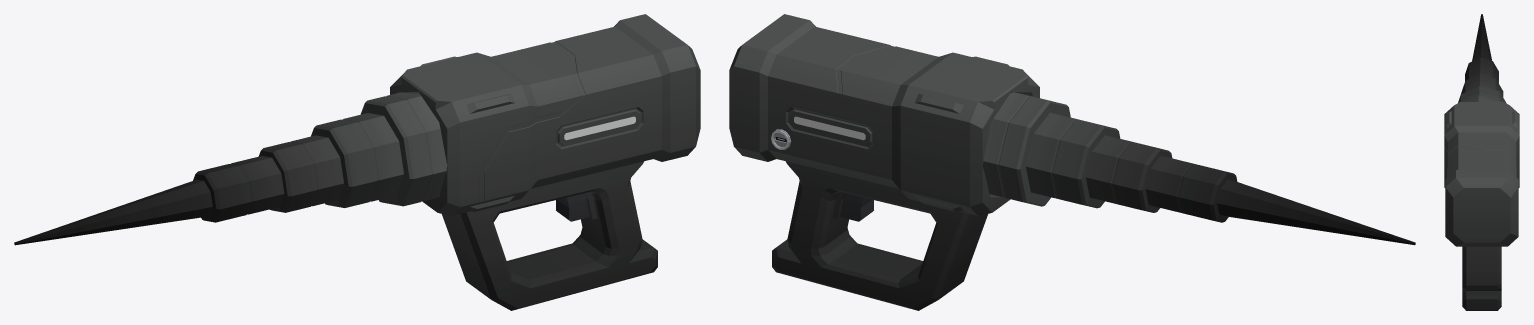
File: Item_Drill_FBX_Fixed.fbx
The picture shows the model from 3 angles, left to right: view 1: azimuth 30°, elevation 25°; view 2: azimuth 150°, elevation 25°; view 3: azimuth 270°, elevation 25°; orthographic projection. The views are drawn at different scales.
Parts seen in each view (by area): view 1: Cube.018, Cube.057, Plane.238; view 2: Cube.018, Cube.057, Plane.238; view 3: Cube.018, Cube.057.
Boxes of the visible parts, <box> form: Cube.018: <box>390,14,700,310</box>; Cube.057: <box>14,92,447,245</box>; Plane.238: <box>556,193,590,221</box>; Cube.018: <box>729,14,1039,310</box>; Cube.057: <box>982,92,1415,245</box>; Plane.238: <box>839,193,873,221</box>; Cube.018: <box>1444,102,1519,310</box>; Cube.057: <box>1458,14,1506,103</box>.
Size of the model in its own units: 247 by 83.09 by 39.25.
Materials: 2 (1 with a texture image).
